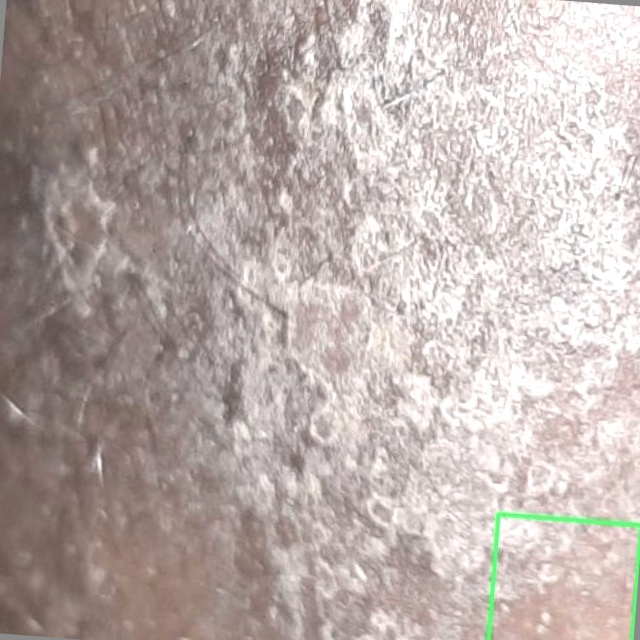Tinea Corporis: (488, 514, 639, 639)
